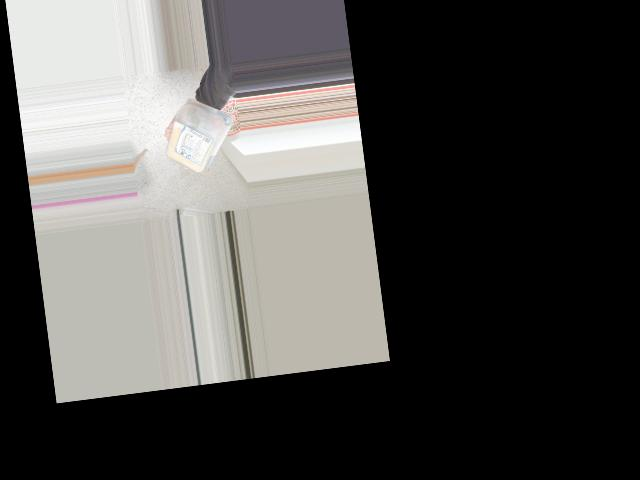cheese: (168, 107, 212, 177)
